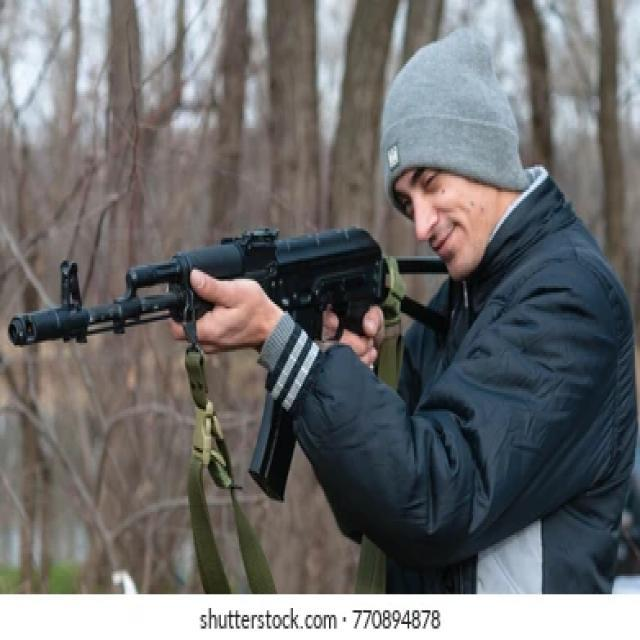weapon: (6, 227, 464, 501)
